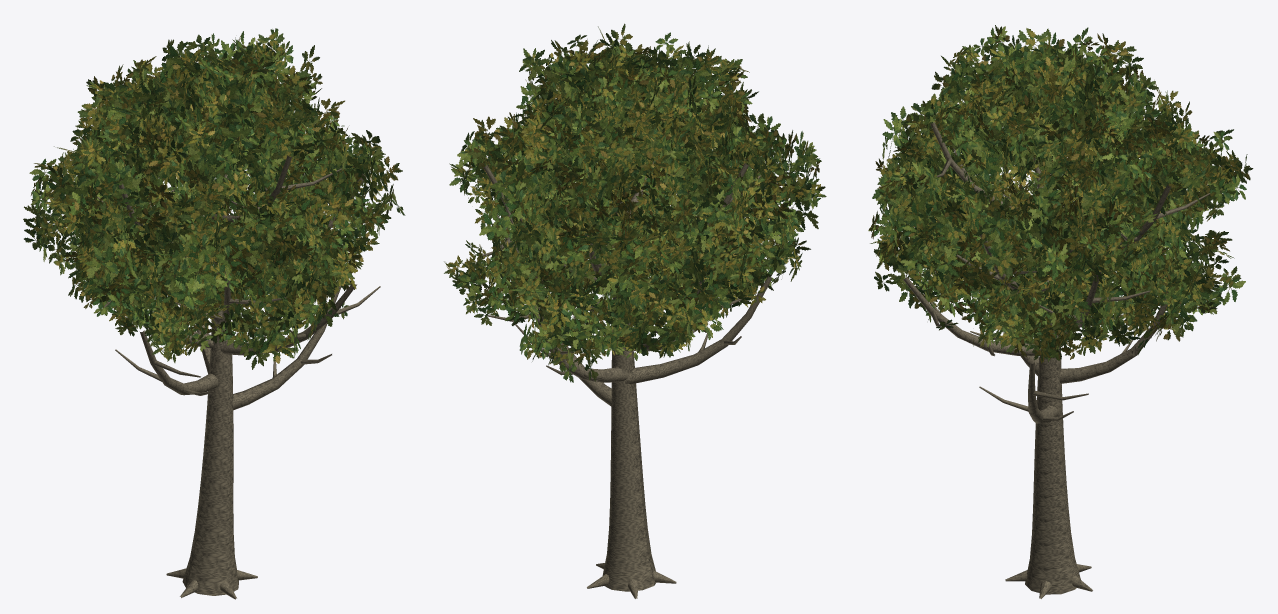
File: PROJECT_Z_Temperate_Oak_Tree_LOD0.glb
The picture shows the model from 3 angles, left to right: view 1: azimuth 30°, elevation 25°; view 2: azimuth 150°, elevation 25°; view 3: azimuth 270°, elevation 25°; orthographic projection.
Parts seen in each view (by area): view 1: LOD0_06_CanopySector_02_AlphaMasked, LOD0_05_CanopySector_01_AlphaMasked, LOD0_08_CanopySector_04_AlphaMasked, LOD0_01_Trunk_OakBark, LOD0_07_CanopySector_03_AlphaMasked, LOD0_03_PrimaryLimbs_12, LOD0_04_SecondaryTwigs_36, LOD0_02_RootFlare_5Parts; view 2: LOD0_08_CanopySector_04_AlphaMasked, LOD0_07_CanopySector_03_AlphaMasked, LOD0_06_CanopySector_02_AlphaMasked, LOD0_01_Trunk_OakBark, LOD0_03_PrimaryLimbs_12, LOD0_05_CanopySector_01_AlphaMasked, LOD0_04_SecondaryTwigs_36, LOD0_02_RootFlare_5Parts; view 3: LOD0_07_CanopySector_03_AlphaMasked, LOD0_05_CanopySector_01_AlphaMasked, LOD0_06_CanopySector_02_AlphaMasked, LOD0_08_CanopySector_04_AlphaMasked, LOD0_01_Trunk_OakBark, LOD0_03_PrimaryLimbs_12, LOD0_04_SecondaryTwigs_36, LOD0_02_RootFlare_5Parts.
Boxes of the visible parts, <box> form: LOD0_06_CanopySector_02_AlphaMasked: <box>37,57,314,369</box>; LOD0_05_CanopySector_01_AlphaMasked: <box>211,40,405,363</box>; LOD0_08_CanopySector_04_AlphaMasked: <box>23,41,210,316</box>; LOD0_01_Trunk_OakBark: <box>182,204,238,595</box>; LOD0_07_CanopySector_03_AlphaMasked: <box>118,28,381,250</box>; LOD0_03_PrimaryLimbs_12: <box>118,153,366,410</box>; LOD0_04_SecondaryTwigs_36: <box>97,168,380,395</box>; LOD0_02_RootFlare_5Parts: <box>166,568,257,599</box>; LOD0_08_CanopySector_04_AlphaMasked: <box>530,58,793,382</box>; LOD0_07_CanopySector_03_AlphaMasked: <box>444,40,626,371</box>; LOD0_06_CanopySector_02_AlphaMasked: <box>629,41,826,317</box>; LOD0_01_Trunk_OakBark: <box>602,202,655,591</box>; LOD0_03_PrimaryLimbs_12: <box>483,161,772,406</box>; LOD0_05_CanopySector_01_AlphaMasked: <box>494,23,686,294</box>; LOD0_04_SecondaryTwigs_36: <box>482,110,765,381</box>; LOD0_02_RootFlare_5Parts: <box>587,563,676,598</box>; LOD0_07_CanopySector_03_AlphaMasked: <box>1040,56,1247,360</box>; LOD0_05_CanopySector_01_AlphaMasked: <box>869,52,1069,363</box>; LOD0_06_CanopySector_02_AlphaMasked: <box>868,25,1057,316</box>; LOD0_08_CanopySector_04_AlphaMasked: <box>1041,27,1253,315</box>; LOD0_01_Trunk_OakBark: <box>1025,215,1080,594</box>; LOD0_03_PrimaryLimbs_12: <box>903,122,1171,423</box>; LOD0_04_SecondaryTwigs_36: <box>921,146,1210,420</box>; LOD0_02_RootFlare_5Parts: <box>1005,564,1092,598</box>.
Size of the model in its own units: 7.48 by 11.08 by 7.39.
2 materials, 2 textured.
